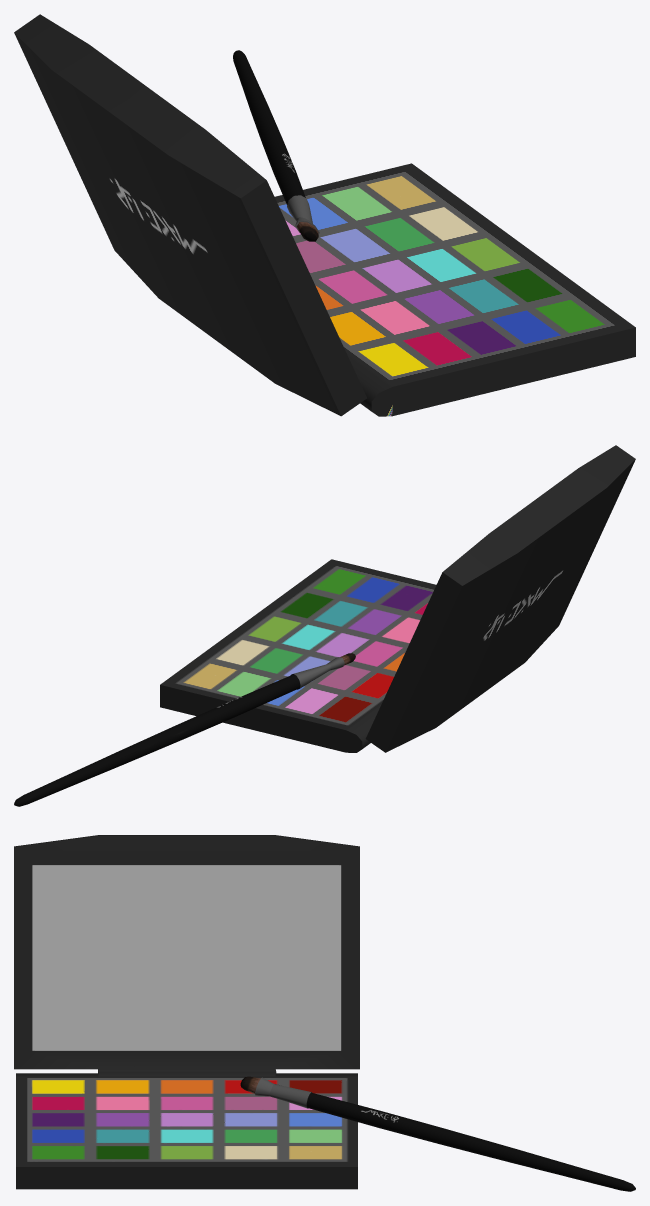
File: palette.gltf
3 views of the same model, one above another, from view 1: azimuth 30°, elevation 25°; view 2: azimuth 150°, elevation 25°; view 3: azimuth 270°, elevation 25° (orthographic). The views are drawn at different scales.
Visible parts, largest first — view 1: Brush; view 2: Brush; view 3: Brush.
Part boxes in pixels (<box>): Brush: <box>14,14,635,416</box>; Brush: <box>14,445,635,806</box>; Brush: <box>14,835,635,1191</box>.
Size of the model in its own units: 1.51 by 0.9527 by 2.52.
Materials: 2 (2 with a texture image).
